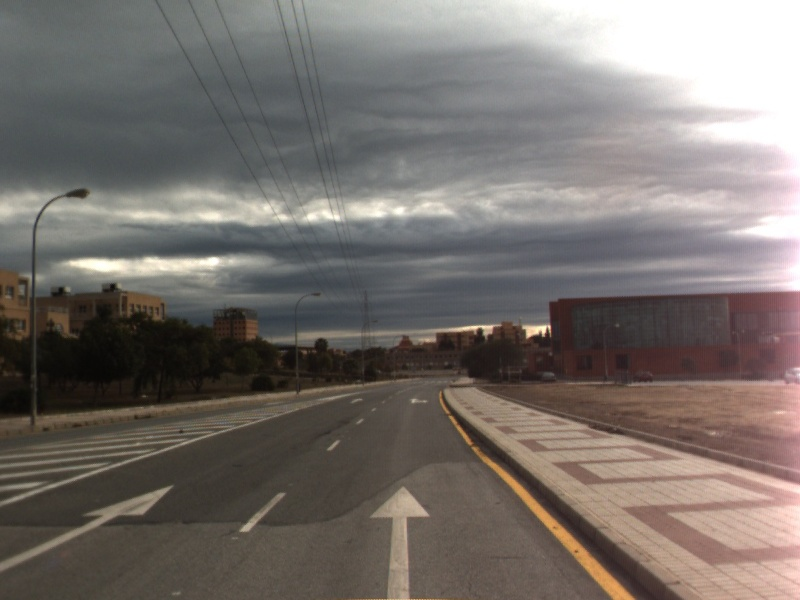STRAIGHT: (1, 483, 176, 572), (367, 484, 432, 600)
STRAIGHT_RIGHT: (407, 396, 431, 406)
